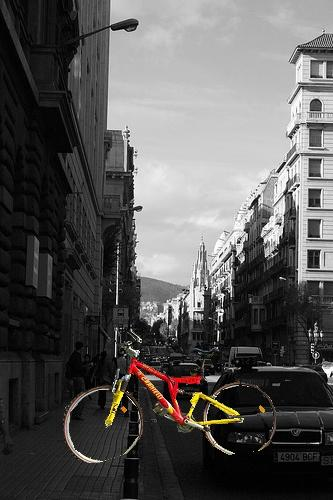tampered: (64, 330, 276, 463)
